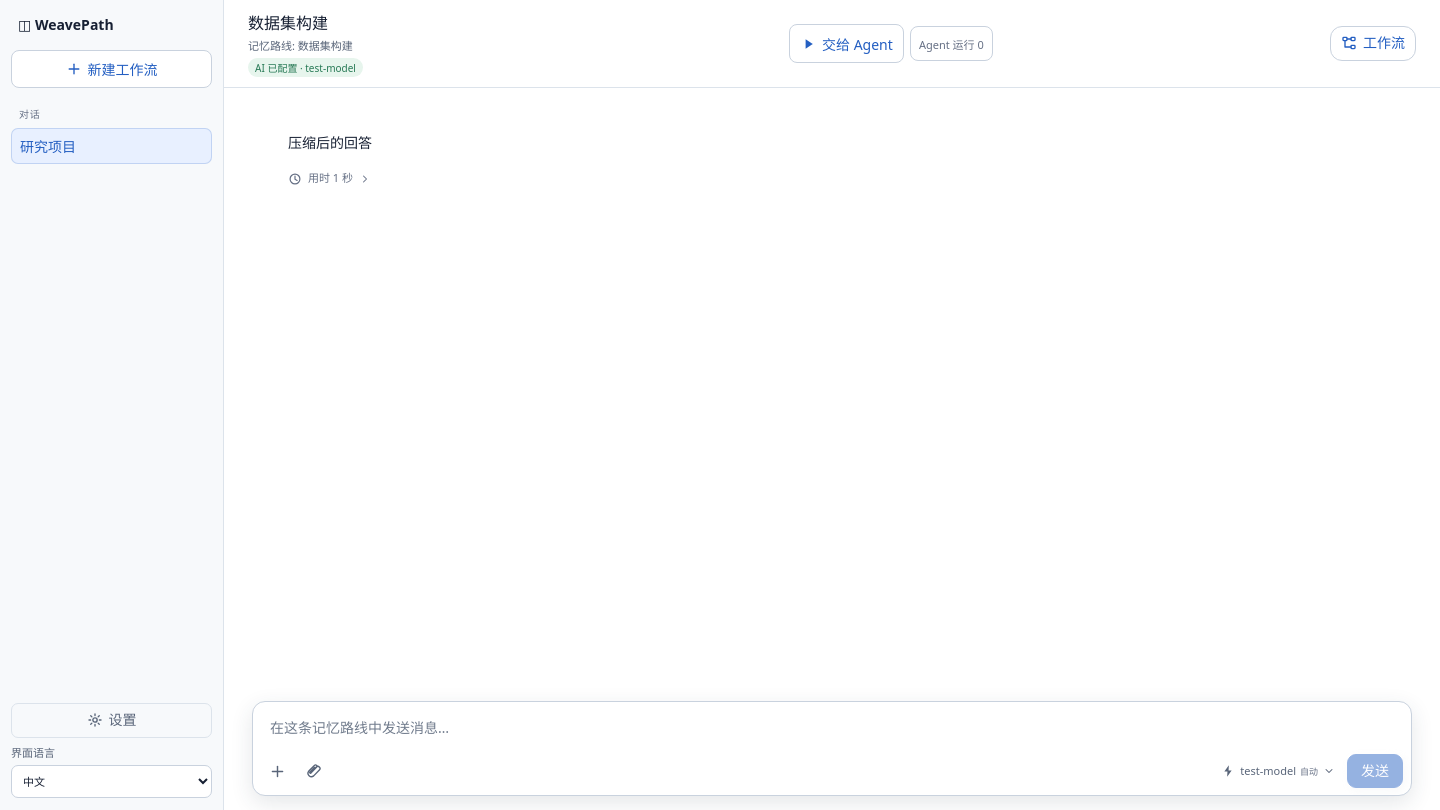
Test: chat delivery mode › shows the automatic route compaction plan in ordinary reply details
The image size is (1440, 810).
expect the text "压缩后的回答" is shown: met, box [288, 133, 372, 152]
Click the heading named "回复详情" at point(330, 178), box [288, 170, 371, 186]
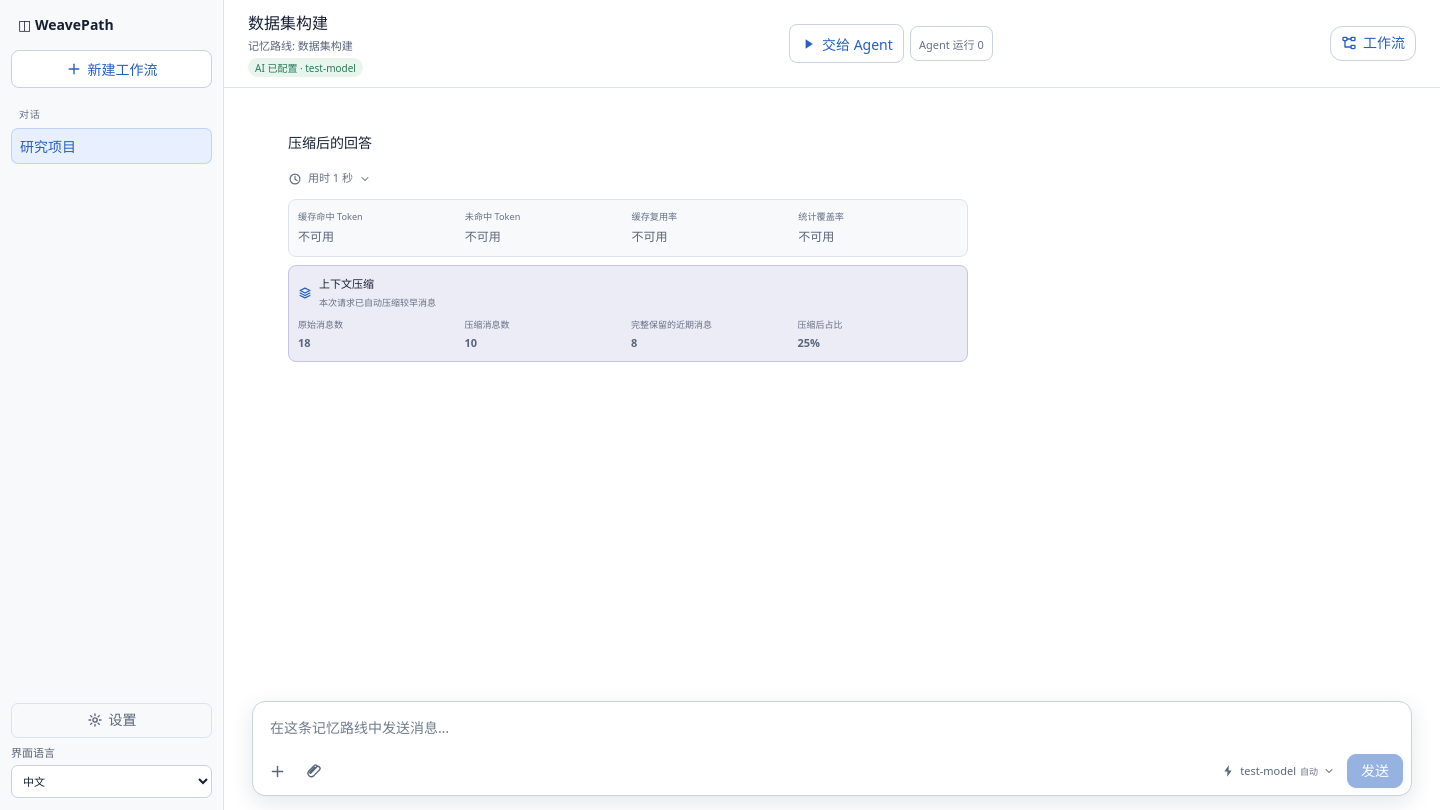
expect the text "18" is shown: met, box [298, 335, 311, 350]
expect the text "10" is shown: met, box [464, 335, 477, 350]
expect the text "8" is shown: met, box [631, 335, 637, 350]
